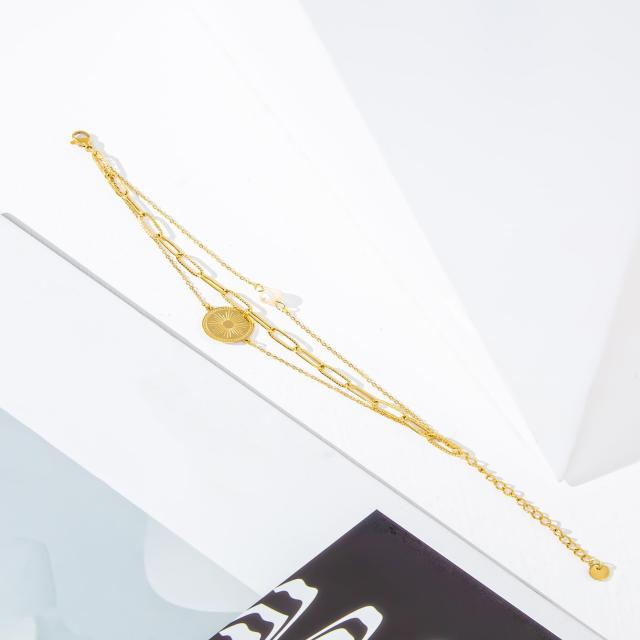bracelet: (54, 96, 640, 596)
